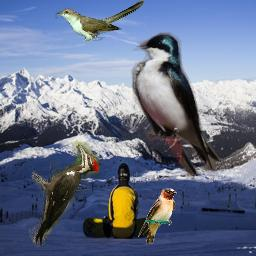Cuckoo: (55, 0, 144, 41)
Swallow: (131, 32, 220, 176), (138, 188, 177, 244)
Woodpecker: (29, 142, 100, 247)
